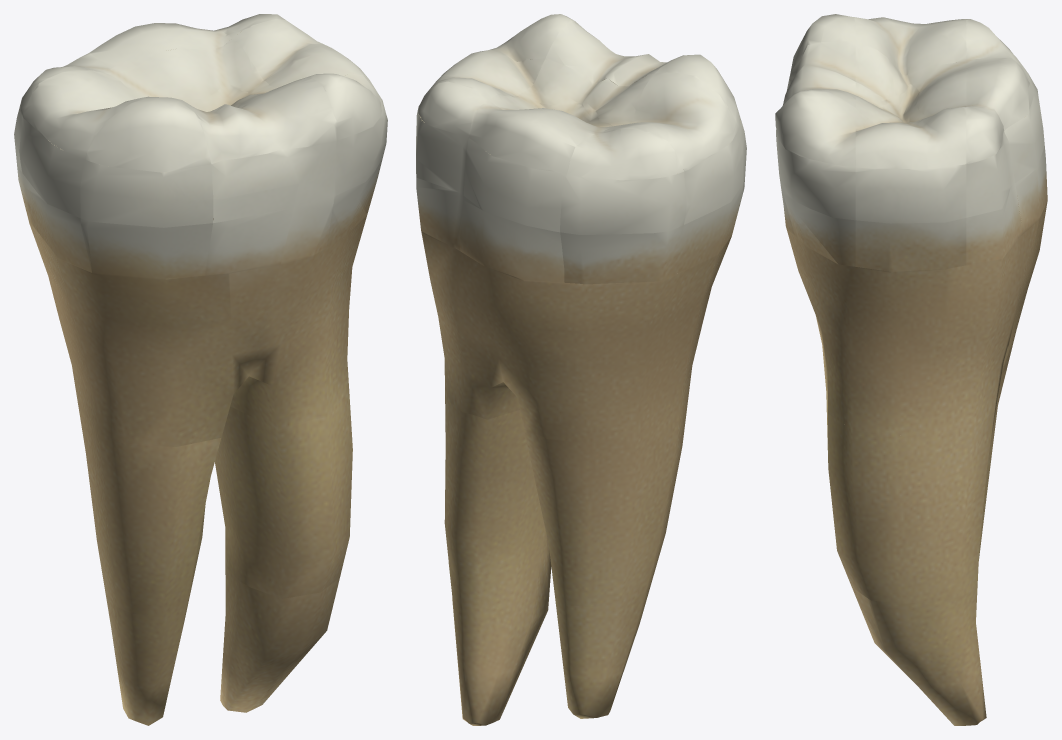
The model's file is Right_Lower_First_Molar.glb.
The picture shows the model from 3 angles, left to right: view 1: azimuth 30°, elevation 25°; view 2: azimuth 150°, elevation 25°; view 3: azimuth 270°, elevation 25°; orthographic projection. The views are drawn at different scales.
Visible parts, largest first — view 1: Human_Teeth_Lower_First_Molar.029; view 2: Human_Teeth_Lower_First_Molar.029; view 3: Human_Teeth_Lower_First_Molar.029.
Boxes of the visible parts, bbox=[...] form: Human_Teeth_Lower_First_Molar.029: bbox=[14, 14, 387, 725]; Human_Teeth_Lower_First_Molar.029: bbox=[416, 14, 746, 725]; Human_Teeth_Lower_First_Molar.029: bbox=[775, 14, 1047, 725].
Bounding box in the file's own units: 1.41 × 2.96 × 1.15.
Materials: 30 (30 with a texture image).
